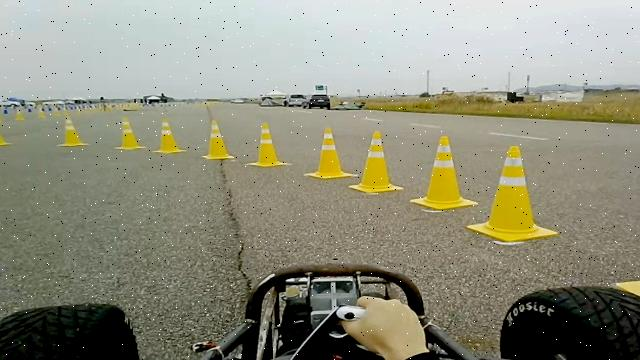yellow cone: (466, 145, 558, 242), (409, 135, 478, 210), (348, 130, 404, 193), (303, 127, 357, 179), (244, 122, 291, 167), (55, 109, 98, 154), (200, 119, 235, 160), (152, 118, 186, 153), (114, 116, 146, 150), (0, 123, 12, 146), (0, 96, 8, 127)
